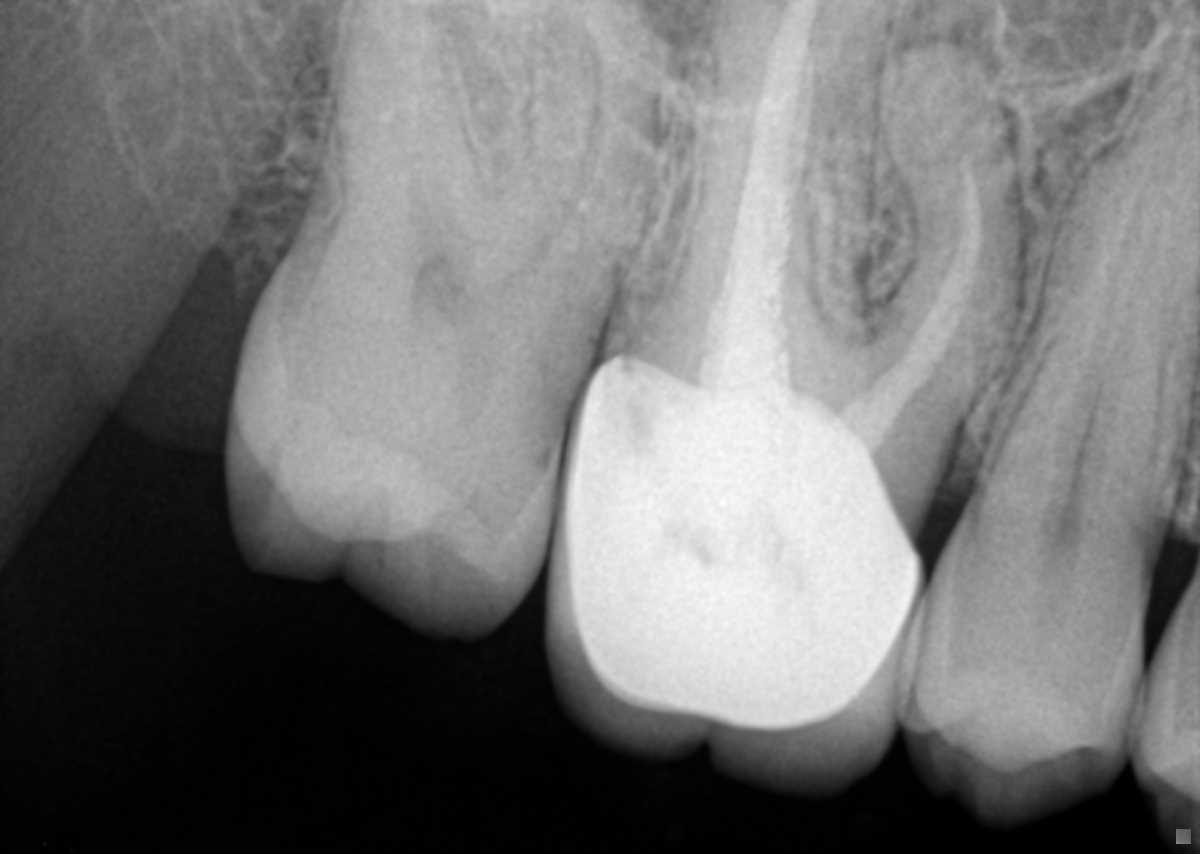Apical Lesion: (873, 0, 1004, 70)
Distal Root: (307, 0, 486, 240)
Main Canal: (1048, 231, 1142, 522)
Main Root: (973, 83, 1200, 532)
Mesial Canal: (533, 19, 606, 257)
Mesial Root: (868, 36, 1027, 429), (497, 0, 672, 292)
Palatal Root: (673, 0, 900, 344)
Root Canal Filling: (713, 0, 822, 338), (895, 158, 981, 393)
